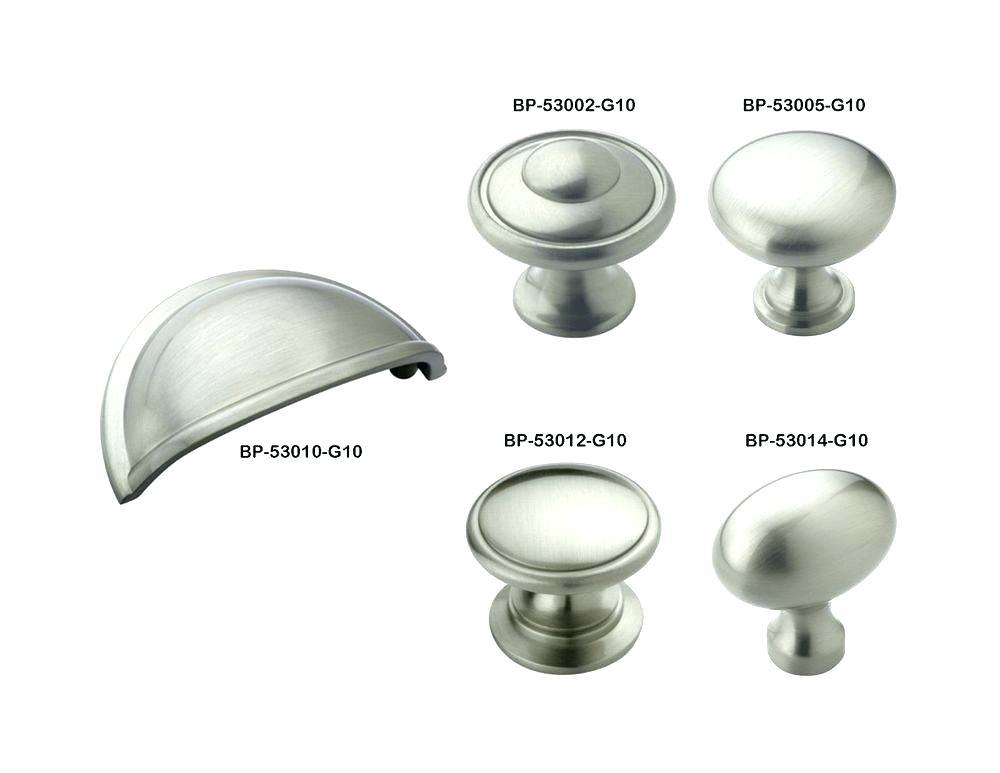handle: (42, 246, 447, 483), (461, 112, 670, 346), (702, 120, 903, 348), (709, 464, 900, 674), (466, 476, 666, 671)
